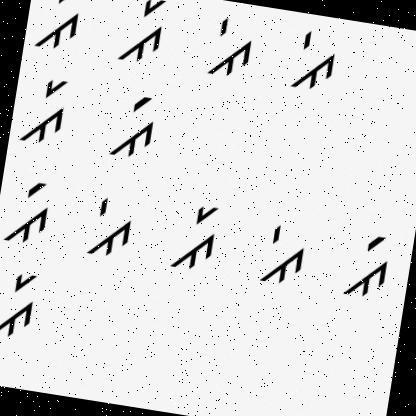kang: (98, 84, 164, 176), (0, 172, 64, 256), (333, 226, 399, 306), (29, 0, 93, 63)
kar: (13, 62, 84, 154), (163, 193, 227, 280), (0, 259, 48, 351), (109, 0, 171, 68)
ke: (194, 3, 263, 90), (80, 186, 146, 268), (281, 21, 346, 102), (253, 213, 312, 292)
